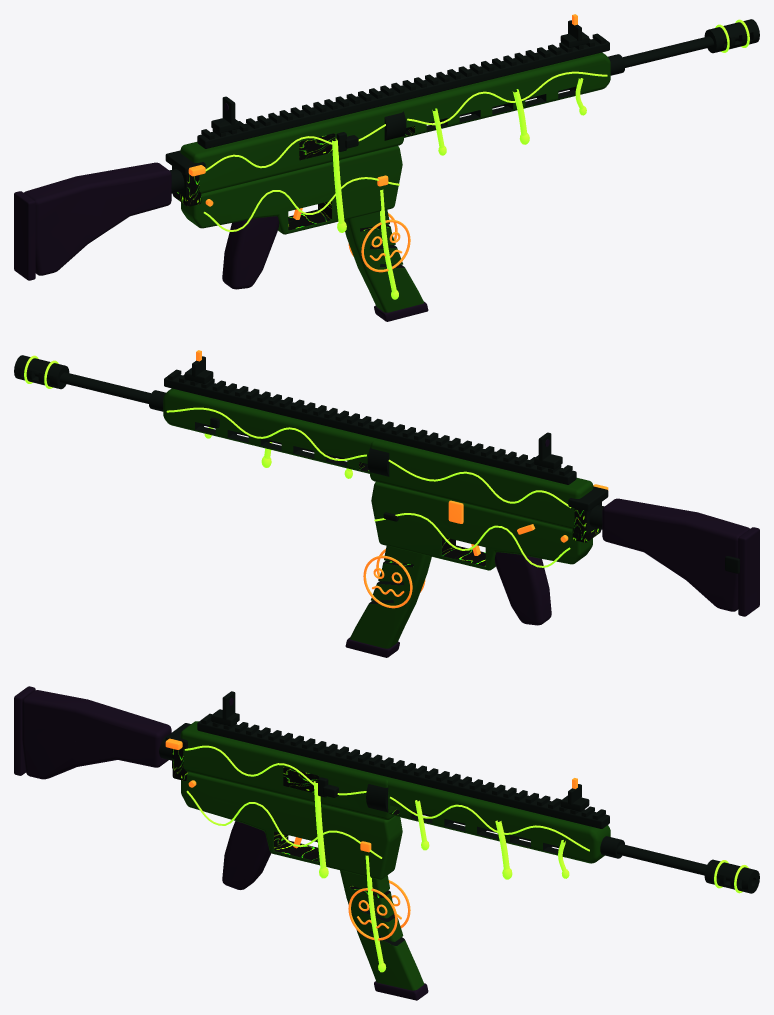
The model's file is ar75_toxic_halloween.glb.
The picture shows the model from 3 angles, top to bottom: view 1: azimuth 30°, elevation 25°; view 2: azimuth 150°, elevation 25°; view 3: azimuth 330°, elevation 25°; orthographic projection.
Parts seen in each view (by area): view 1: AR75__LowerReceiver, AR75__Stock, AR75__UpperReceiver, AR75__Handguard, AR75__TopRail, AR75__Magazine, AR75__PistolGrip, AR75__ButtPad, AR75__Barrel, AR75__MuzzleBrake, AR75__DustCover, HW_RaisedVein_Lower_Near (+5 smaller); view 2: AR75__LowerReceiver, AR75__Stock, AR75__UpperReceiver, AR75__Handguard, AR75__TopRail, AR75__Magazine, AR75__PistolGrip, AR75__ButtPad, AR75__Barrel, AR75__MuzzleBrake, HW_RaisedVein_Lower_Far, HW_RaisedVein_Handguard_Far (+4 smaller); view 3: AR75__LowerReceiver, AR75__Stock, AR75__UpperReceiver, AR75__Handguard, AR75__TopRail, AR75__Magazine, AR75__PistolGrip, AR75__MuzzleBrake, AR75__Barrel, AR75__ButtPad, AR75__DustCover, HW_RaisedVein_Lower_Near (+5 smaller).
Part boxes in pixels (x1,y1,x2,y2): AR75__LowerReceiver: (181,146,402,234); AR75__Stock: (24,162,171,275); AR75__UpperReceiver: (180,103,403,193); AR75__Handguard: (396,52,610,137); AR75__TopRail: (197,39,609,148); AR75__Magazine: (344,210,423,312); AR75__PistolGrip: (222,216,279,289); AR75__ButtPad: (14,191,35,280); AR75__Barrel: (622,35,739,67); AR75__MuzzleBrake: (704,19,759,53); AR75__DustCover: (299,133,335,160); HW_RaisedVein_Lower_Near: (203,177,399,231); AR75__LowerReceiver: (371,482,592,570); AR75__Stock: (602,498,749,611); AR75__UpperReceiver: (370,440,593,529); AR75__Handguard: (163,388,389,473); AR75__TopRail: (164,375,576,484); AR75__Magazine: (350,546,431,648); AR75__PistolGrip: (494,552,551,625); AR75__ButtPad: (738,527,759,616); AR75__Barrel: (34,371,151,403); AR75__MuzzleBrake: (14,355,69,389); HW_RaisedVein_Lower_Far: (374,513,570,567); HW_RaisedVein_Handguard_Far: (166,407,366,460); AR75__LowerReceiver: (181,772,402,879); AR75__Stock: (22,690,171,779); AR75__UpperReceiver: (180,721,399,819); AR75__Handguard: (375,774,610,863); AR75__TopRail: (197,720,609,828); AR75__Magazine: (340,870,423,990); AR75__PistolGrip: (222,821,271,889); AR75__MuzzleBrake: (704,859,759,893); AR75__Barrel: (617,844,730,881); AR75__ButtPad: (14,686,35,775); AR75__DustCover: (283,767,319,793); HW_RaisedVein_Lower_Near: (186,790,382,858).
Bounding box in the file's own units: 1.13 × 0.3782 × 0.0648.
Materials: 103 (6 with a texture image).
